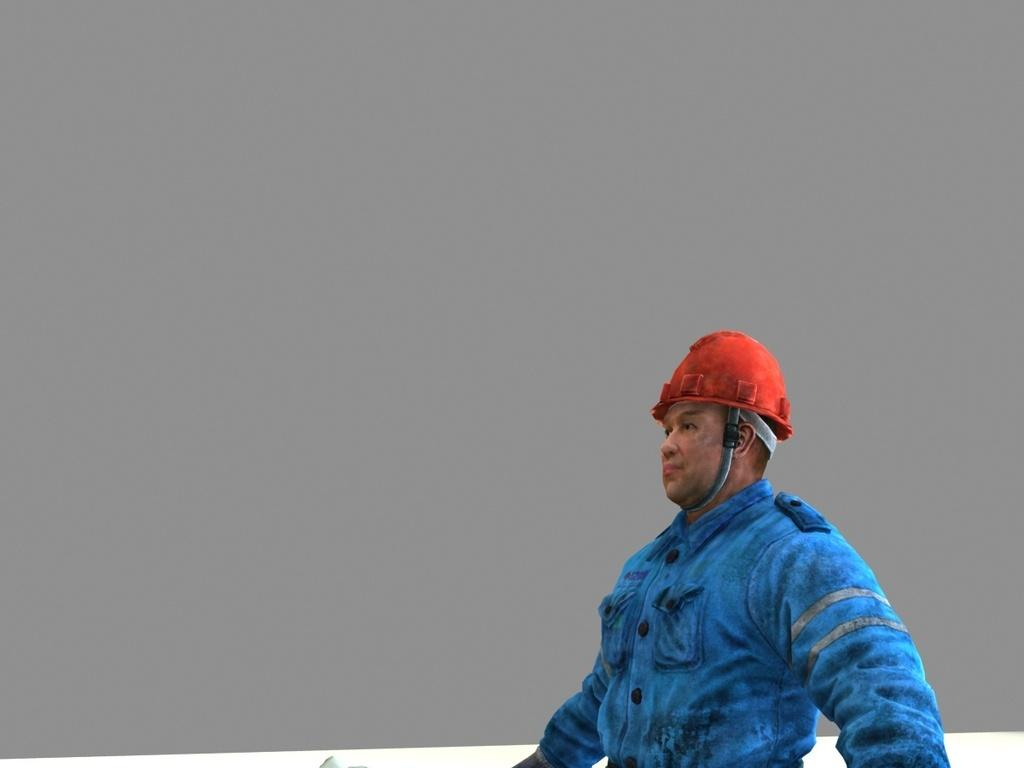helmet: (647, 327, 798, 437)
